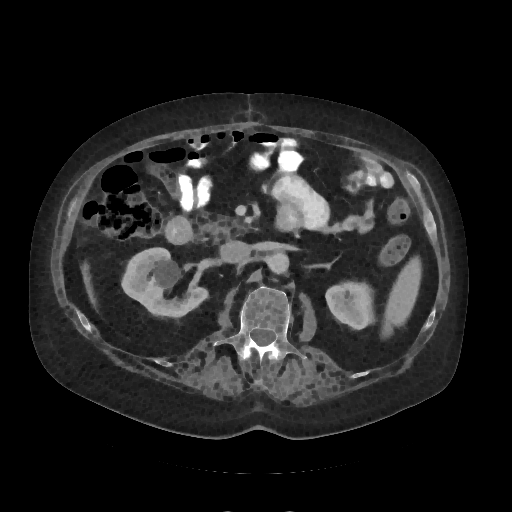Lesion: (147, 256, 183, 294)
